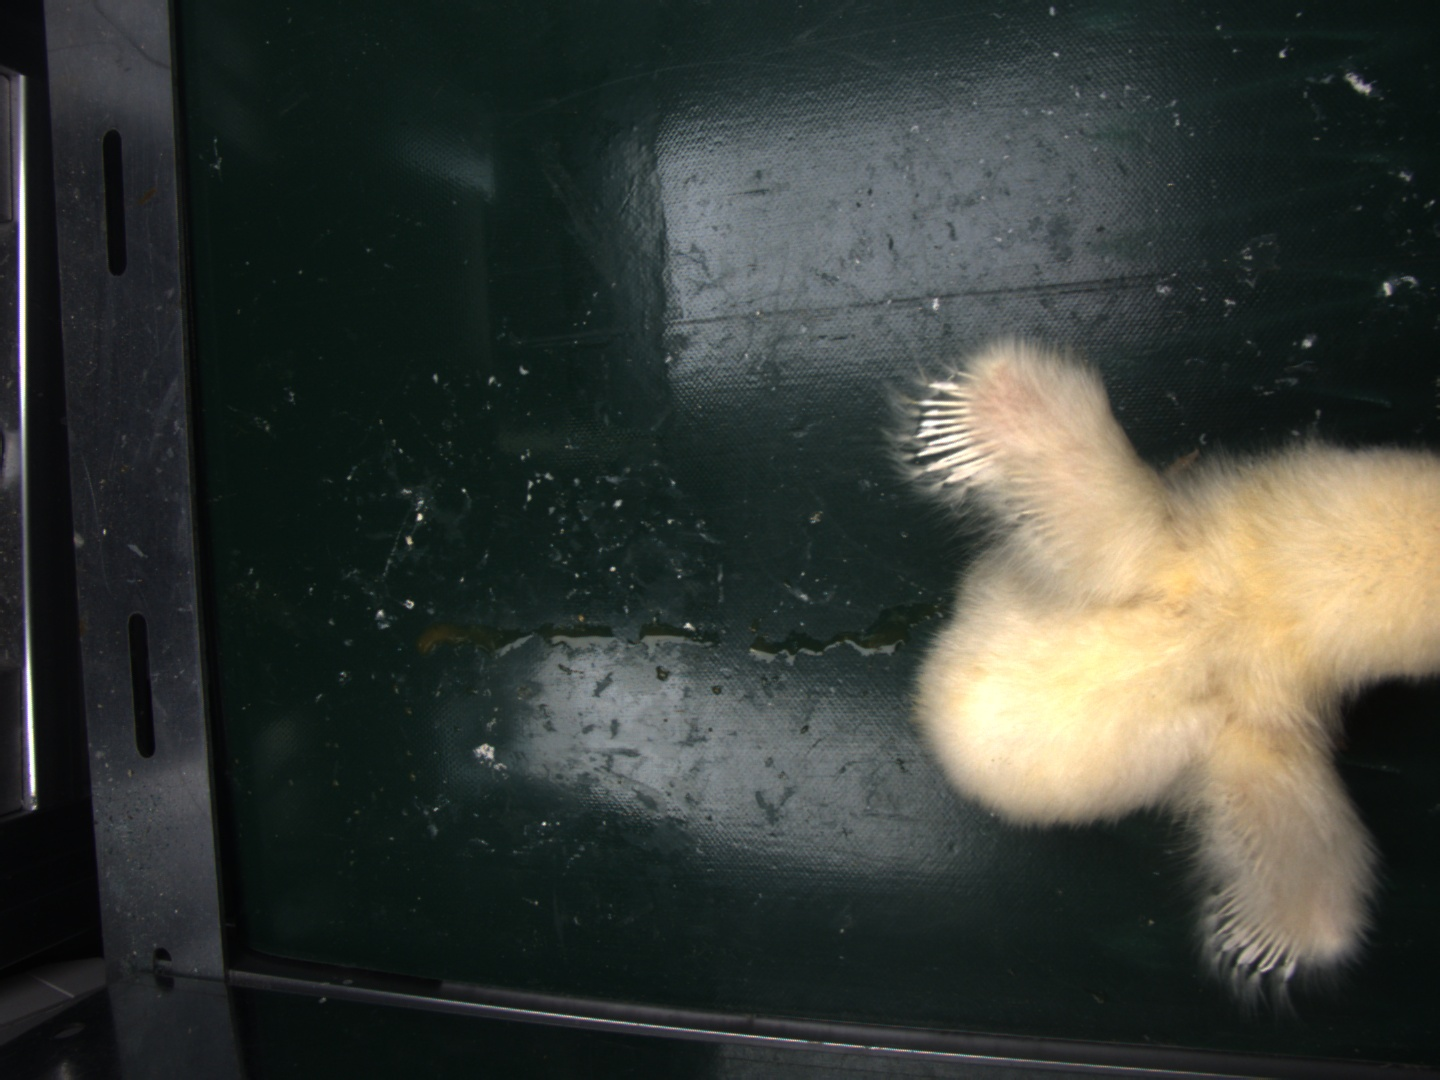male: (906, 381, 996, 488), (1214, 888, 1294, 974)
